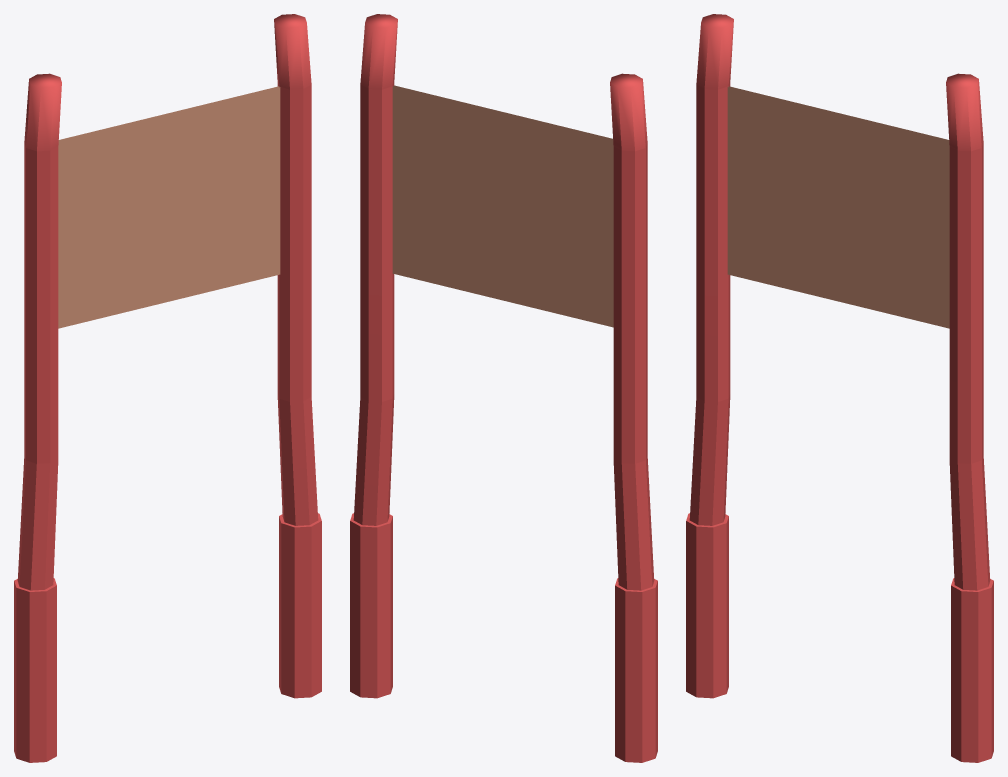
Rendered from Ski_pole1.fbx.
The picture shows the model from 3 angles, left to right: view 1: azimuth 30°, elevation 25°; view 2: azimuth 150°, elevation 25°; view 3: azimuth 330°, elevation 25°; orthographic projection.
Visible parts, largest first — view 1: Ski pole1; view 2: Ski pole1; view 3: Ski pole1.
Part boxes in pixels (box(x1,y1,x2,y2)): Ski pole1: box(14, 14, 321, 762); Ski pole1: box(350, 14, 657, 762); Ski pole1: box(686, 14, 993, 762).
Size of the model in its own units: 31 by 65.51 by 3.92.
